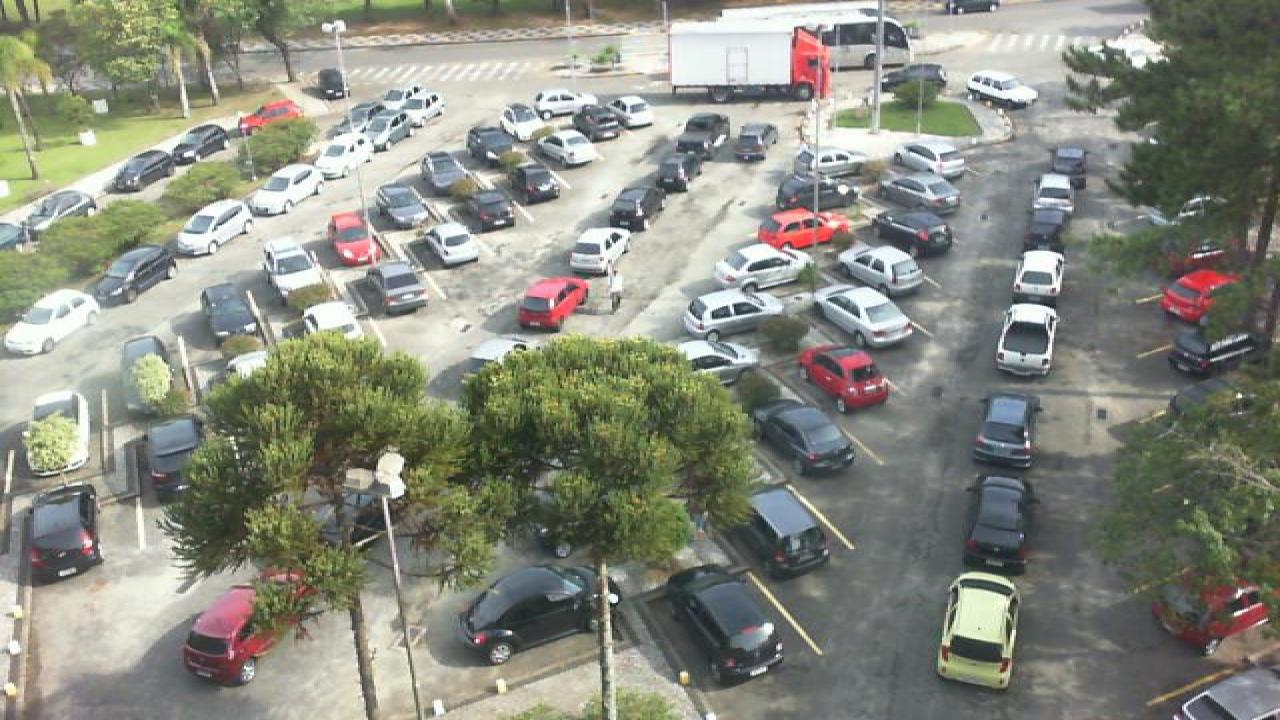Car: (668, 564, 786, 688), (458, 564, 600, 666), (936, 570, 1020, 690), (182, 584, 276, 685), (748, 396, 858, 478), (16, 487, 106, 584), (1154, 584, 1272, 652), (746, 485, 830, 577), (964, 472, 1036, 570), (2, 288, 98, 358), (20, 390, 92, 480), (814, 286, 918, 348), (800, 344, 892, 412), (682, 288, 790, 343), (970, 391, 1044, 467), (142, 416, 202, 505), (198, 281, 272, 352), (996, 302, 1062, 379), (96, 245, 176, 306), (1158, 269, 1240, 328), (712, 243, 812, 291), (1166, 325, 1256, 378), (120, 334, 176, 416), (176, 198, 254, 256), (834, 245, 926, 294), (674, 339, 764, 389), (756, 207, 854, 251), (516, 277, 592, 333), (246, 163, 322, 217), (262, 235, 326, 296), (872, 210, 956, 256), (878, 171, 962, 217), (366, 260, 432, 317), (566, 226, 630, 277), (1012, 249, 1068, 305), (108, 153, 186, 193), (422, 220, 482, 270), (966, 70, 1042, 108), (894, 141, 966, 181), (608, 184, 668, 231), (326, 210, 376, 266), (376, 184, 436, 230), (778, 174, 854, 210), (316, 137, 378, 180), (164, 123, 234, 161), (876, 63, 948, 99), (508, 161, 566, 205), (534, 128, 596, 168), (464, 125, 522, 166), (790, 147, 864, 179), (300, 299, 358, 339), (356, 121, 418, 158), (676, 111, 730, 153), (418, 151, 470, 192), (502, 101, 554, 142), (568, 106, 626, 142), (364, 99, 422, 134), (534, 89, 600, 119), (238, 100, 304, 130), (652, 153, 698, 196), (386, 84, 444, 118), (1028, 202, 1072, 246), (604, 94, 656, 130), (732, 122, 776, 163), (1034, 171, 1078, 210), (1050, 144, 1088, 178), (316, 66, 348, 100)
